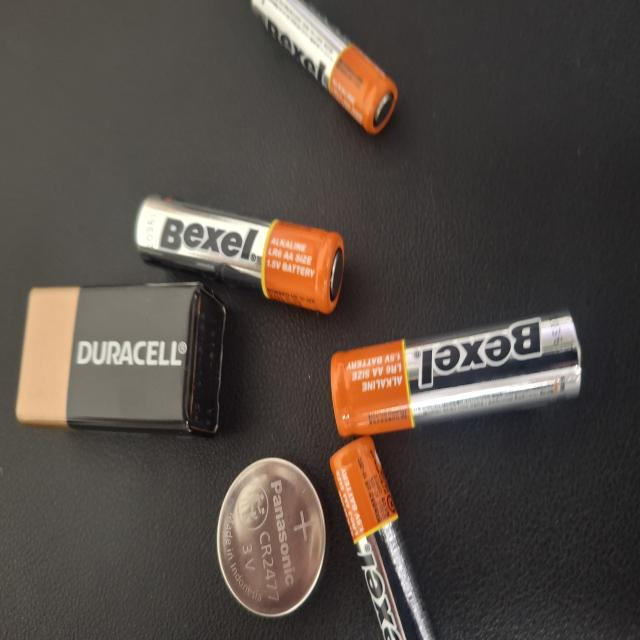9V: (415, 208, 624, 357)
AA: (59, 204, 309, 326), (296, 326, 506, 444)
AAA: (206, 0, 310, 204), (242, 506, 388, 640)
COIN: (314, 23, 422, 182)
